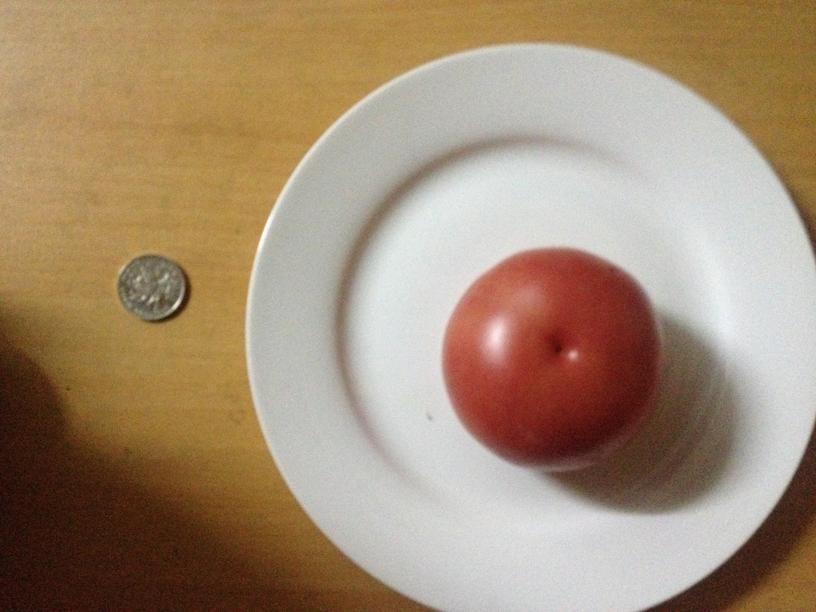coin: (115, 257, 193, 321)
tomato: (431, 242, 663, 475)
